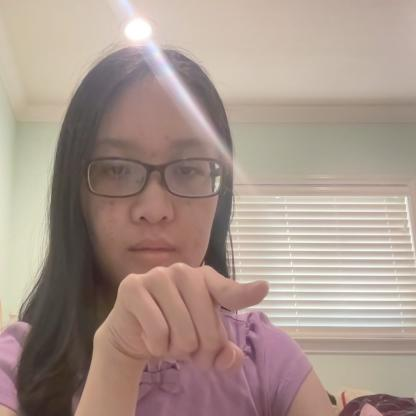finger_point: (209, 274, 272, 311)
